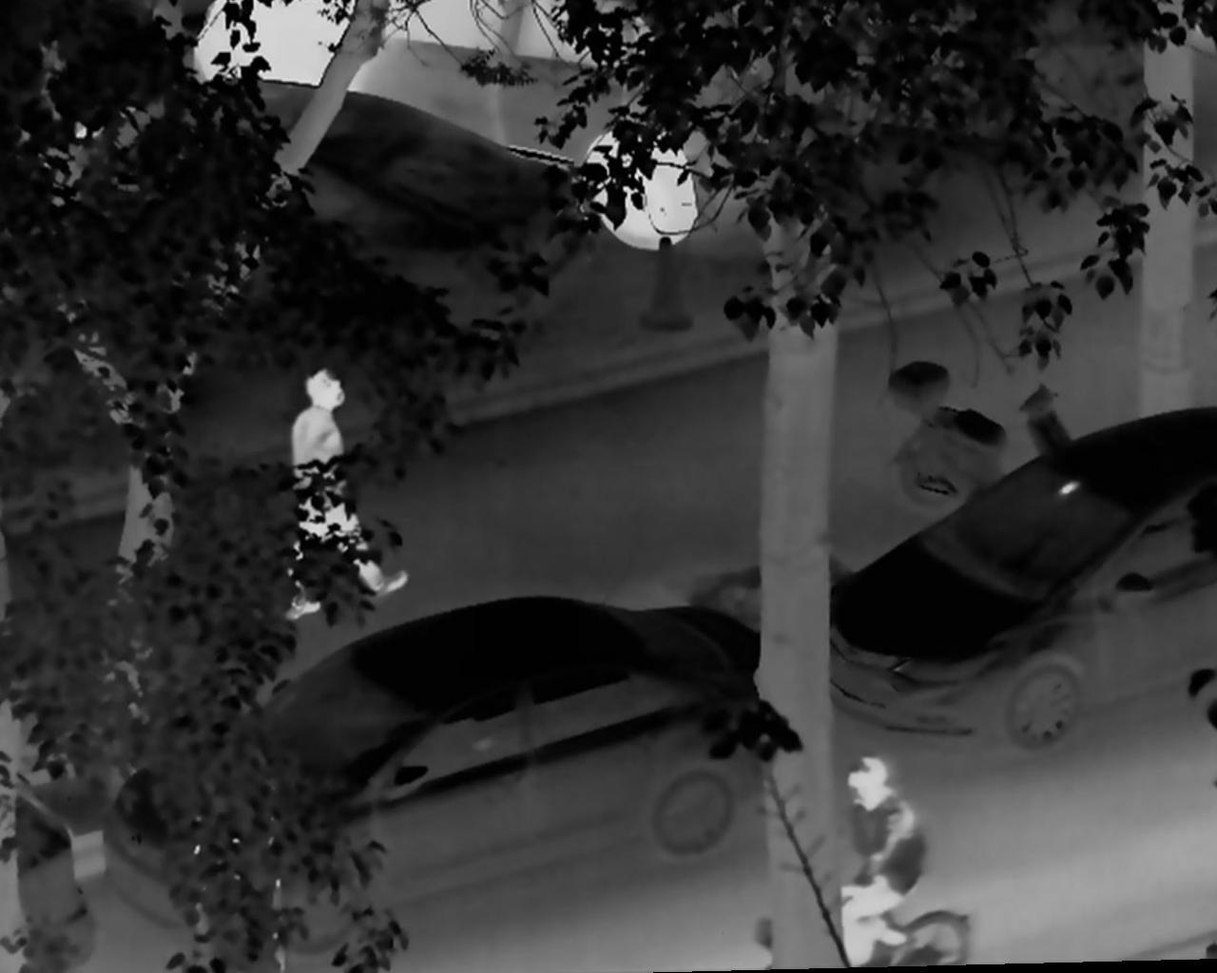person: (251, 365, 413, 619), (820, 753, 923, 970)
